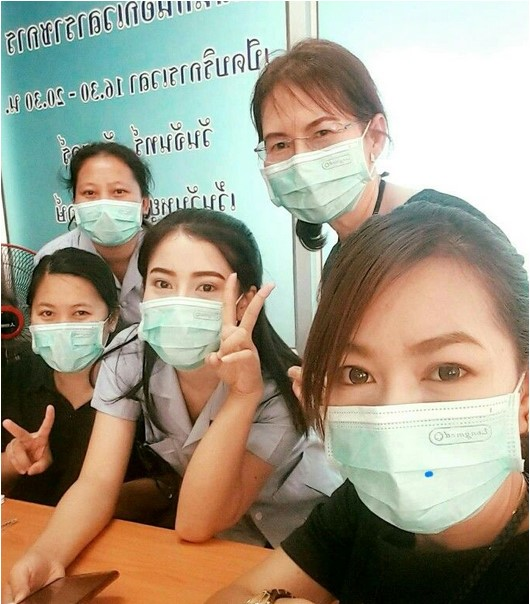face_with_mask: (319, 210, 527, 535), (251, 44, 385, 222), (146, 214, 256, 369), (32, 251, 120, 371), (70, 144, 151, 243)
